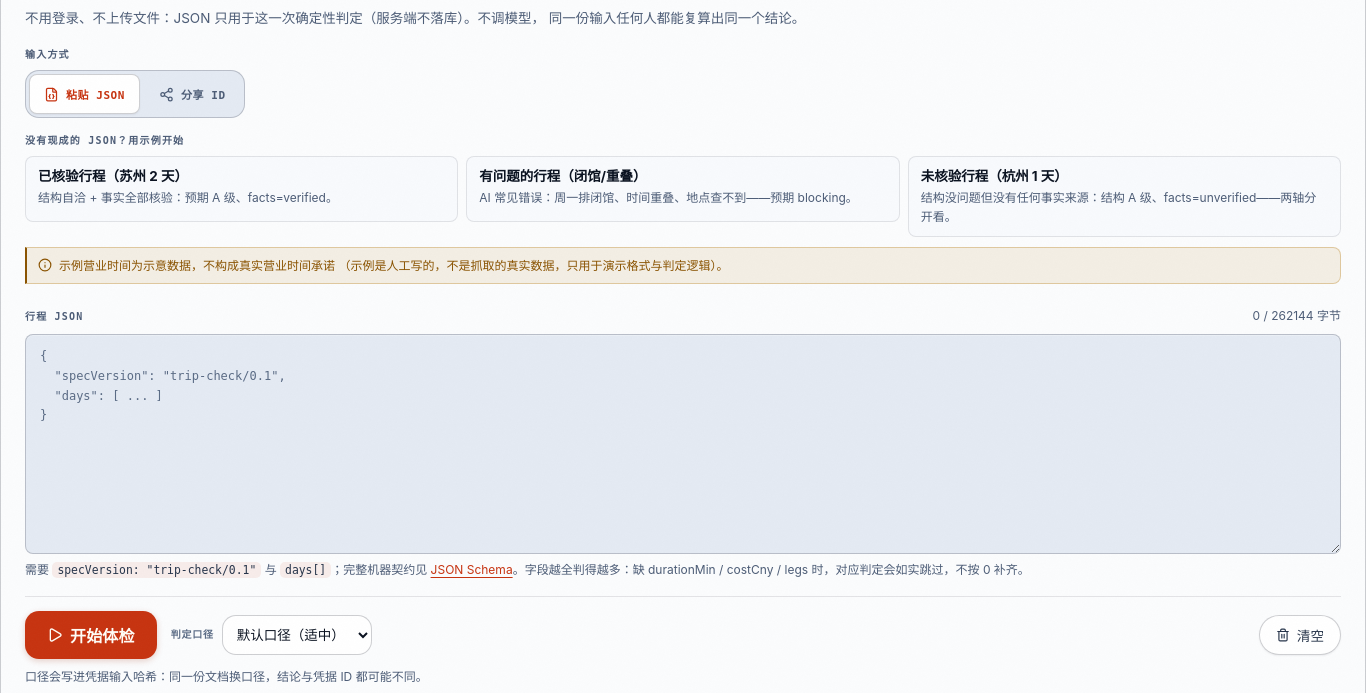
Test: TripCheckPlayground › 400：把服务端的 errors[].path 逐条展示，不合并成一句「格式错误」
Click the button "未核验行程（杭州 1 天） 结构没问题但没有任何事实来源：结构 A 级、facts=unverified——两轴分开看。" at (1124, 197), box 908,156 -> 1341,237
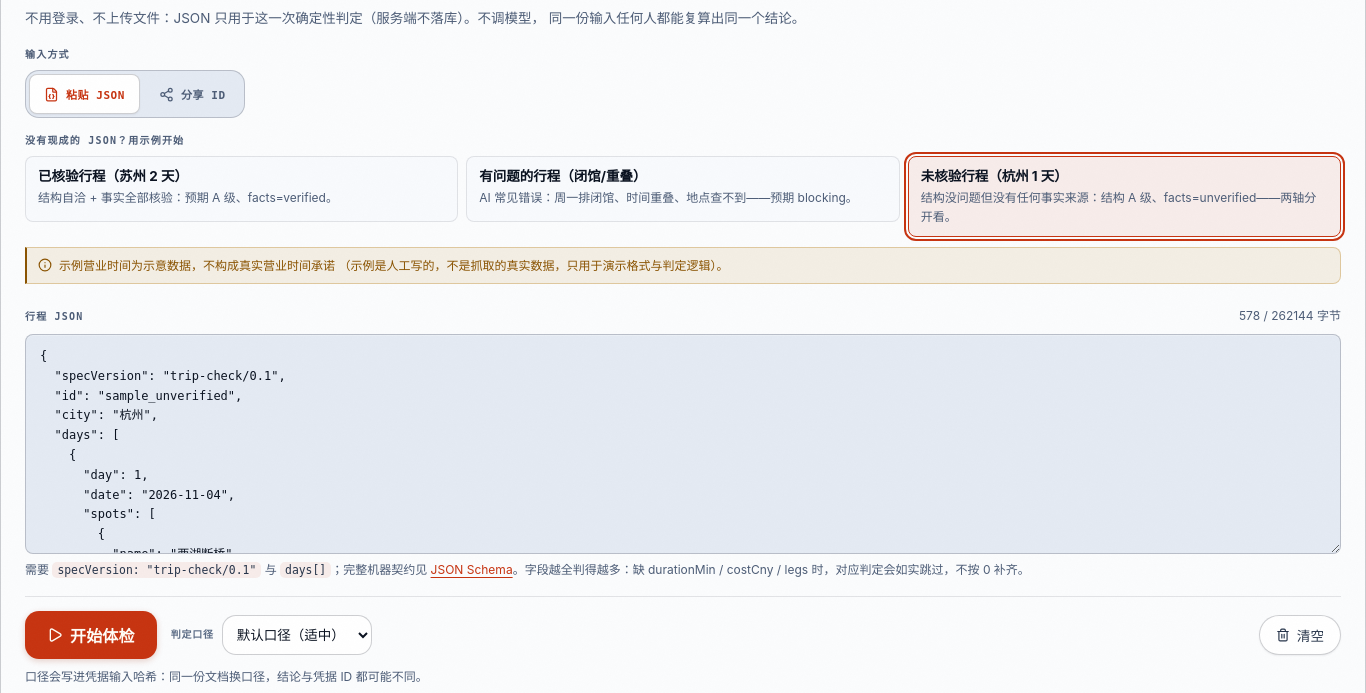
Click the button "开始体检" at (91, 635), box 25,611 -> 157,659
(page scrolled)
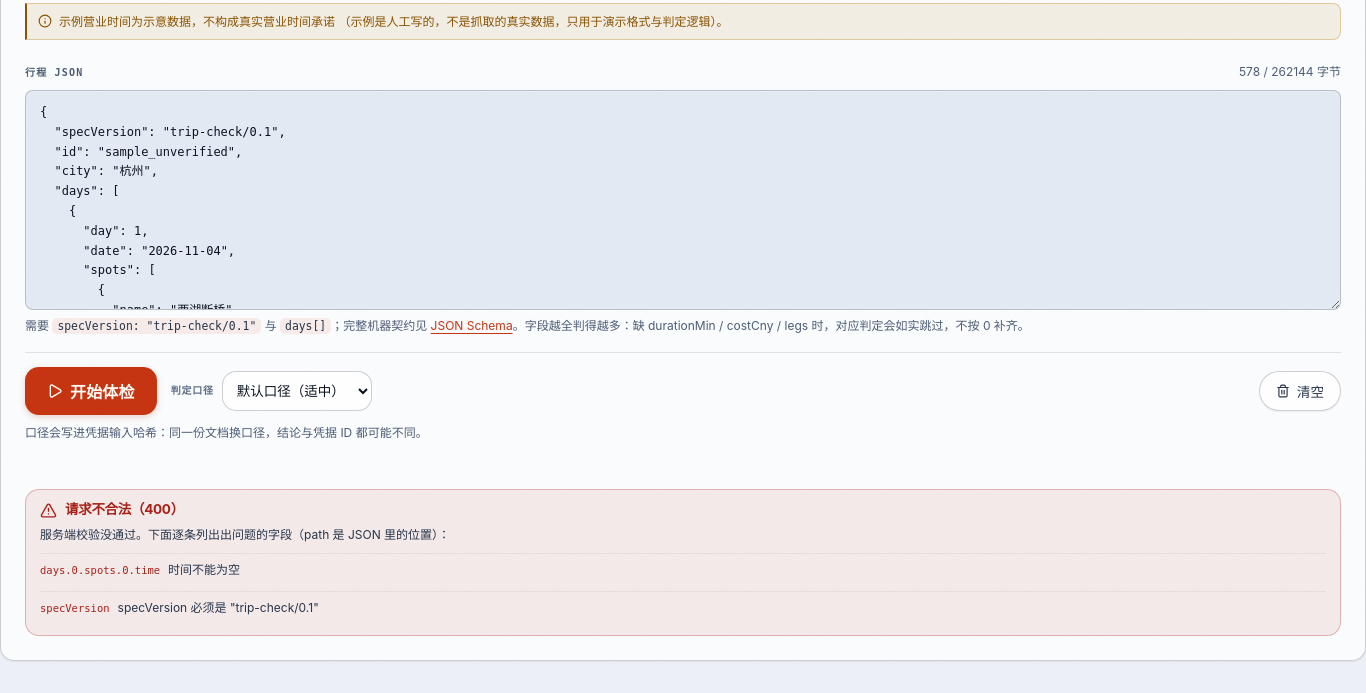
Now the heading "请求不合法（400）" is shown, box 65,502 -> 184,518
Now the text "days.0.spots.0.time" is shown, box 40,562 -> 160,578
Now the text "时间不能为空" is shown, box 168,560 -> 240,579
